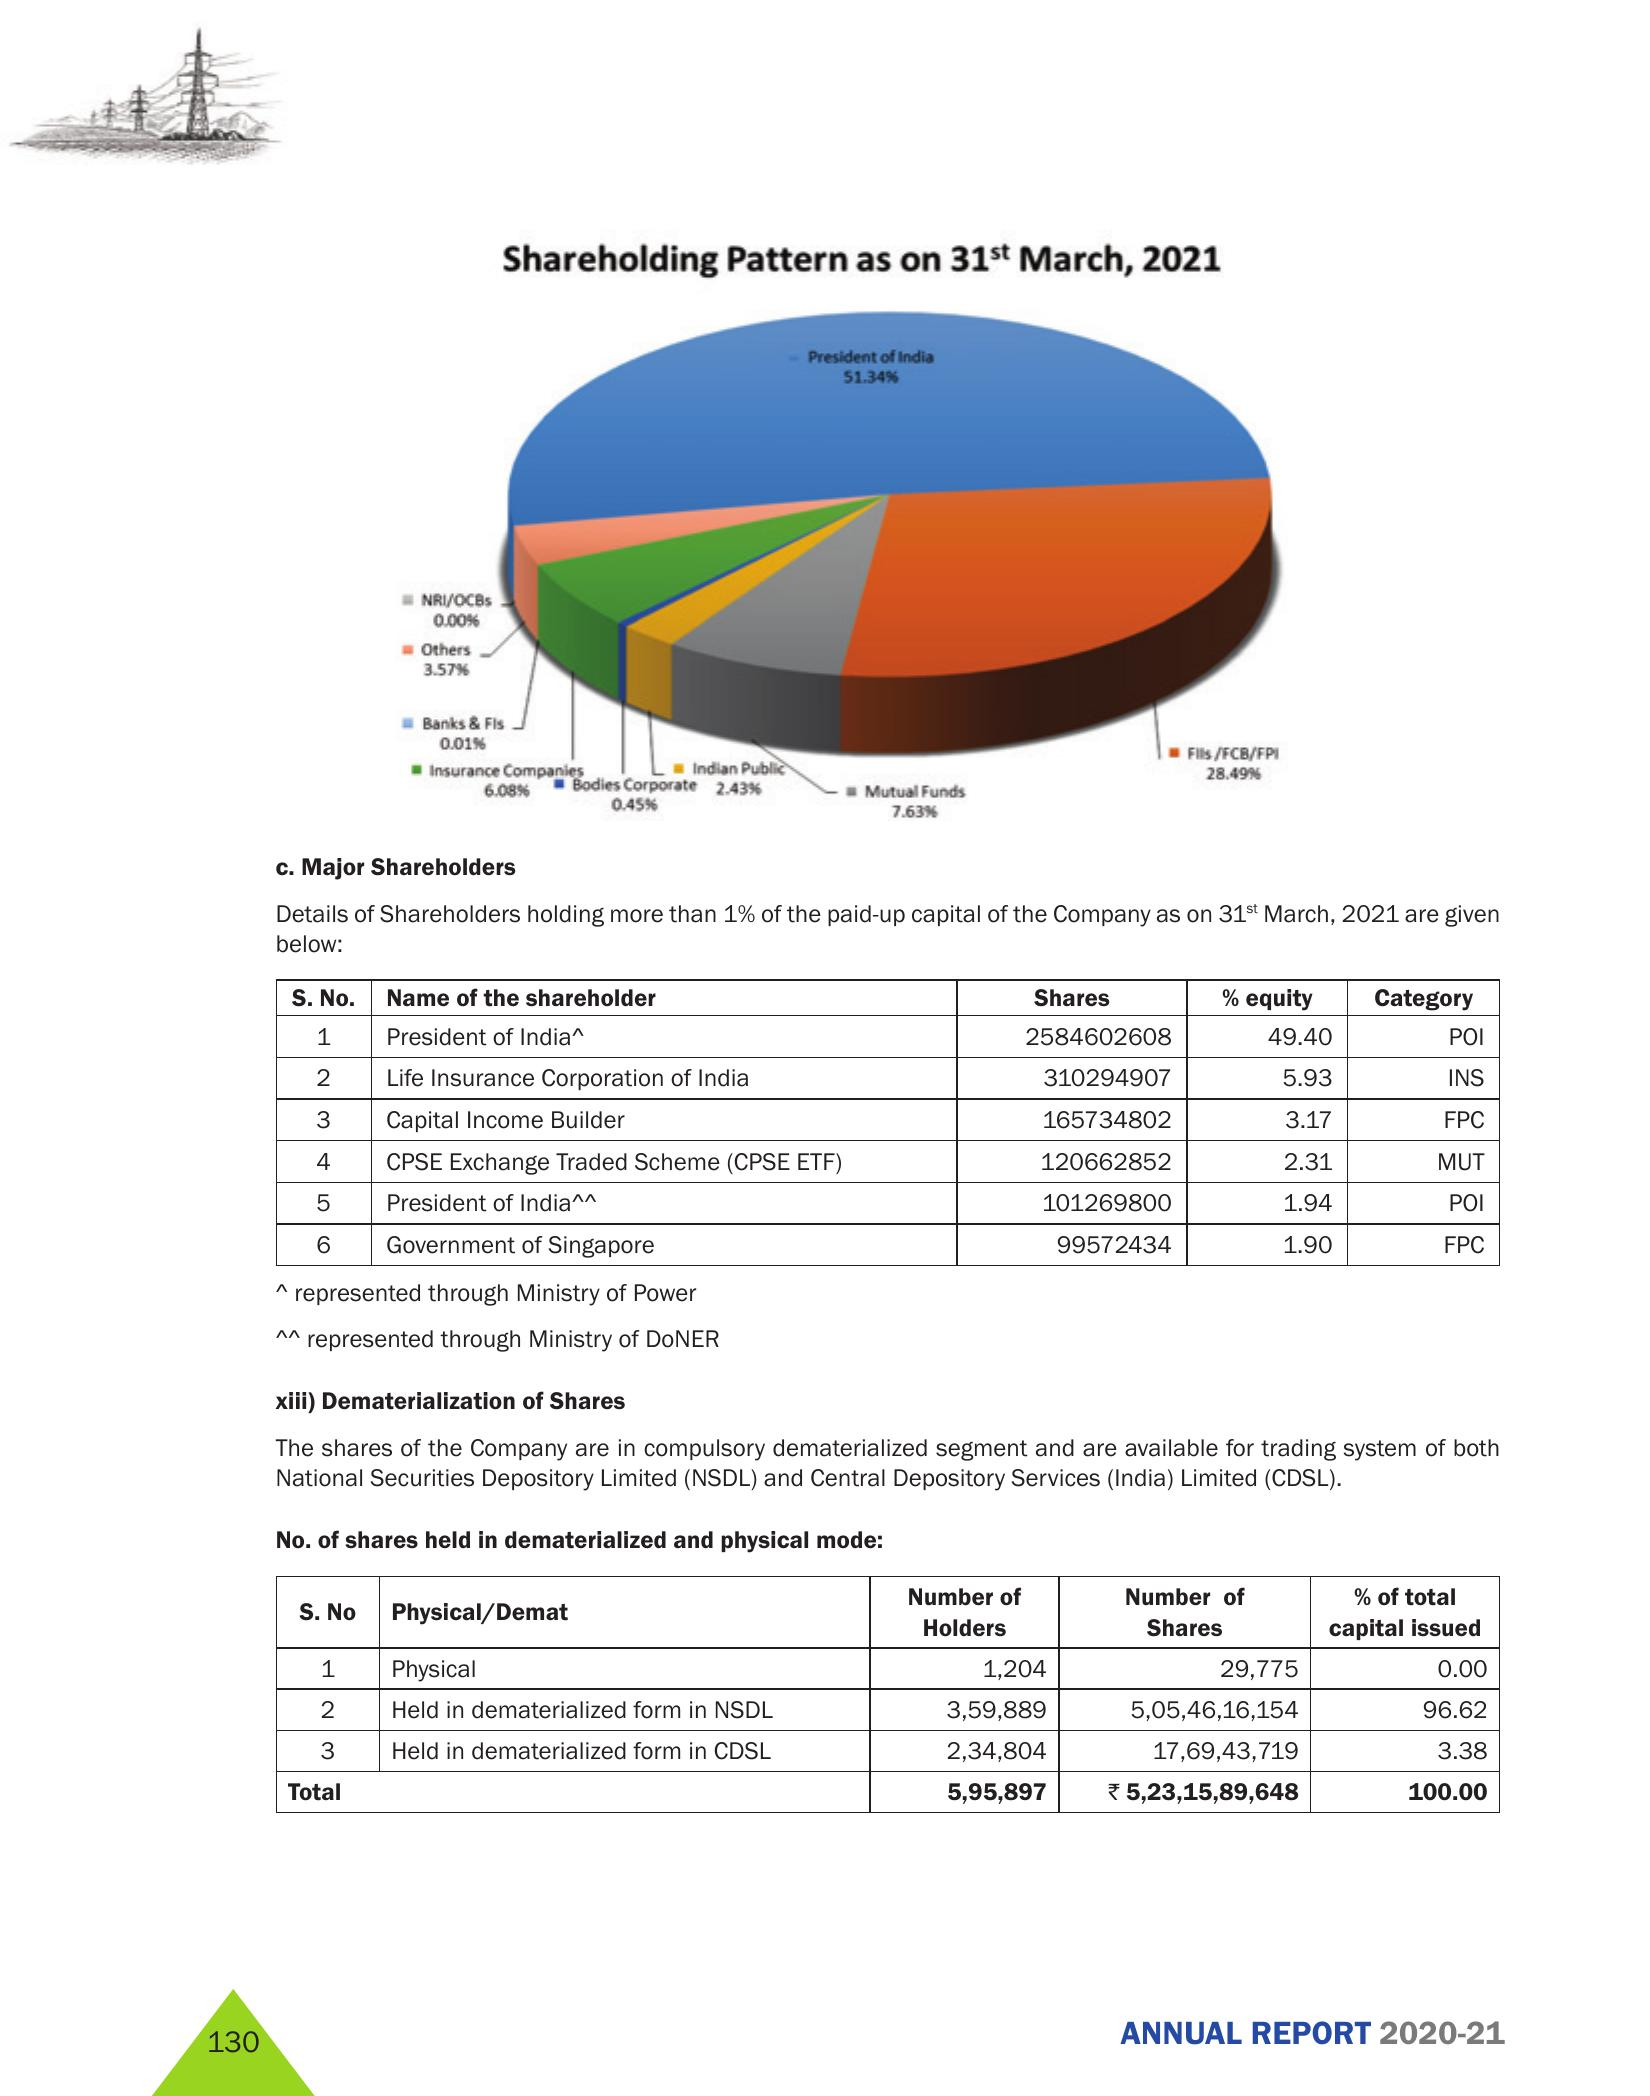Footer: (0, 1982, 1650, 2096)
Header: (0, 0, 1650, 184)
Image: (371, 225, 1335, 839)
Table: (213, 968, 1524, 1279), (201, 1574, 1528, 1848)
